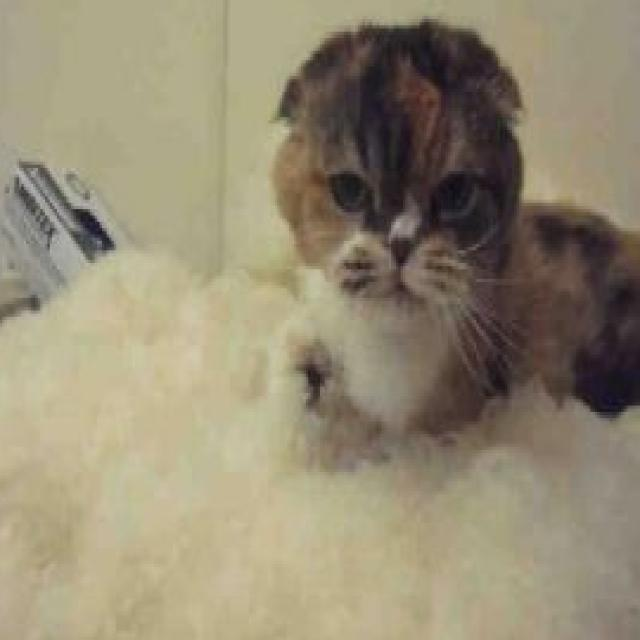Scottish Fold: (265, 13, 640, 450)
